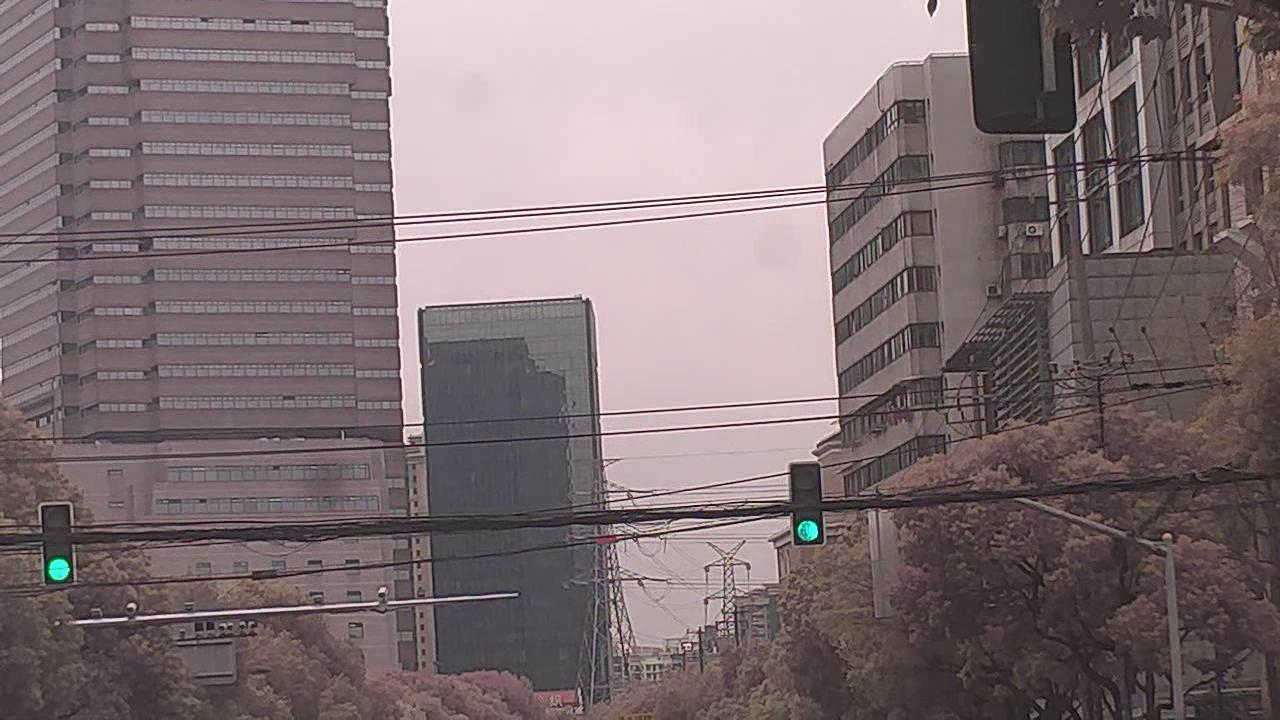traffic_light: (789, 461, 825, 546), (40, 503, 77, 584)
